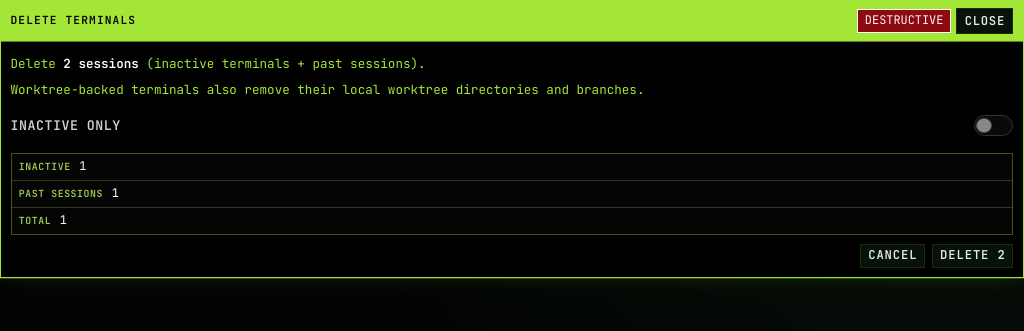
DeleteAllTerminalsDialog › surfaces partial failures after refreshing the parent state
The width and height of the screenshot is (1024, 331).
What coordinates should you click on to do the following:
click the button with aria-label "Confirm delete all terminals"
I would click on:
 (973, 256)
Its box is [932,244,1014,268].
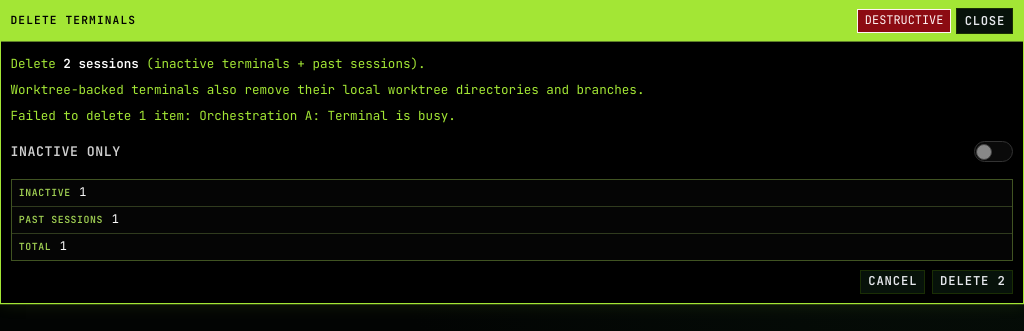
Result: the message reads "Failed to delete 1 item: Orchestration A: Terminal is busy." at [10,107,456,124]
